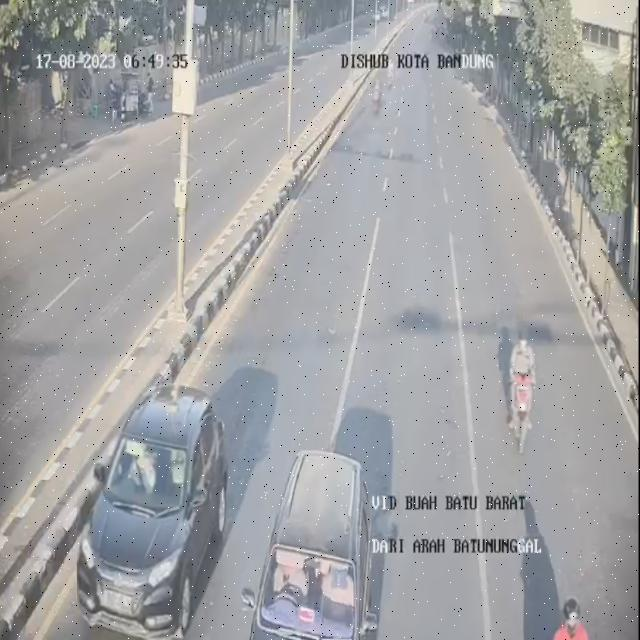cars: (77, 388, 222, 640), (252, 454, 389, 640)
motorcycle: (499, 321, 546, 451), (547, 593, 594, 640), (370, 72, 385, 118)
